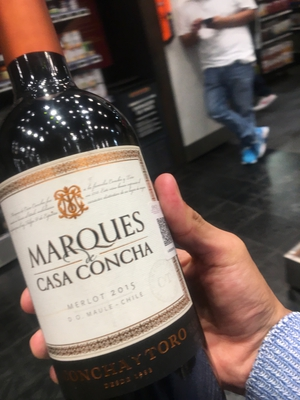marques de casa concha merlot: (2, 16, 202, 400)
